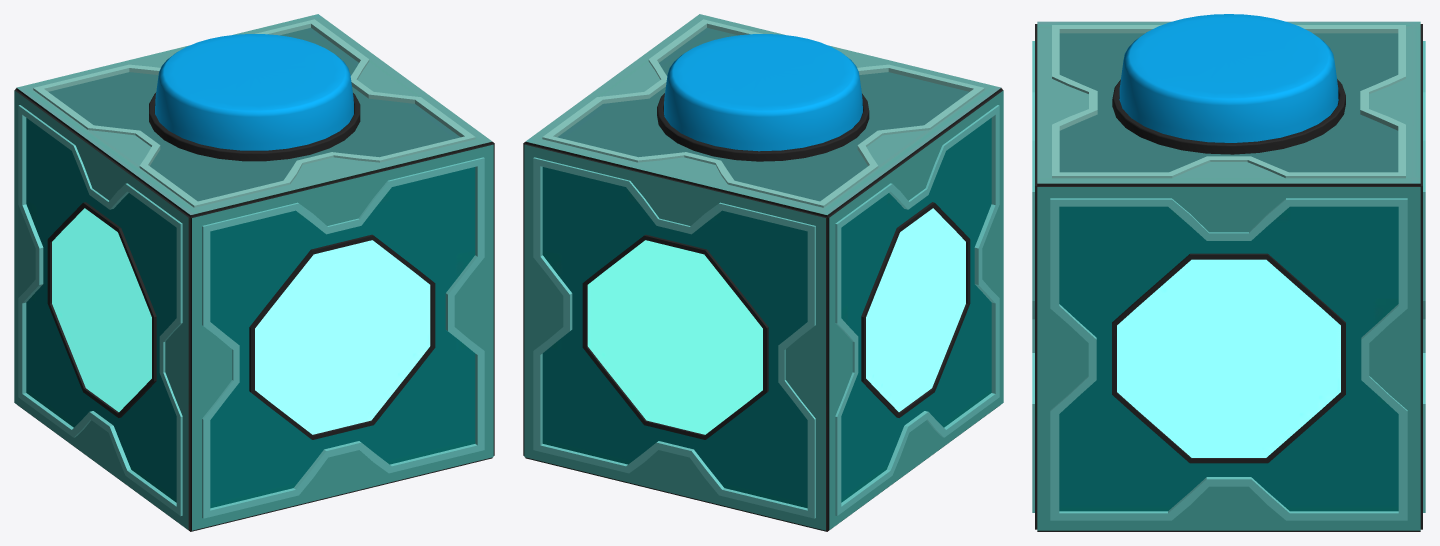
Rendered from bola_meeseeks.glb.
3 views of the same model, side by side, from view 1: azimuth 30°, elevation 25°; view 2: azimuth 150°, elevation 25°; view 3: azimuth 270°, elevation 25° (orthographic). The views are drawn at different scales.
Visible parts, largest first — view 1: bola_meeseeks; view 2: bola_meeseeks; view 3: bola_meeseeks.
Part boxes in pixels (<box>): bola_meeseeks: <box>14,14,494,531</box>; bola_meeseeks: <box>523,14,1003,531</box>; bola_meeseeks: <box>1032,14,1425,531</box>.
Size of the model in its own units: 0.1792 by 0.2 by 0.1792.
Materials: 3 (3 with a texture image).
